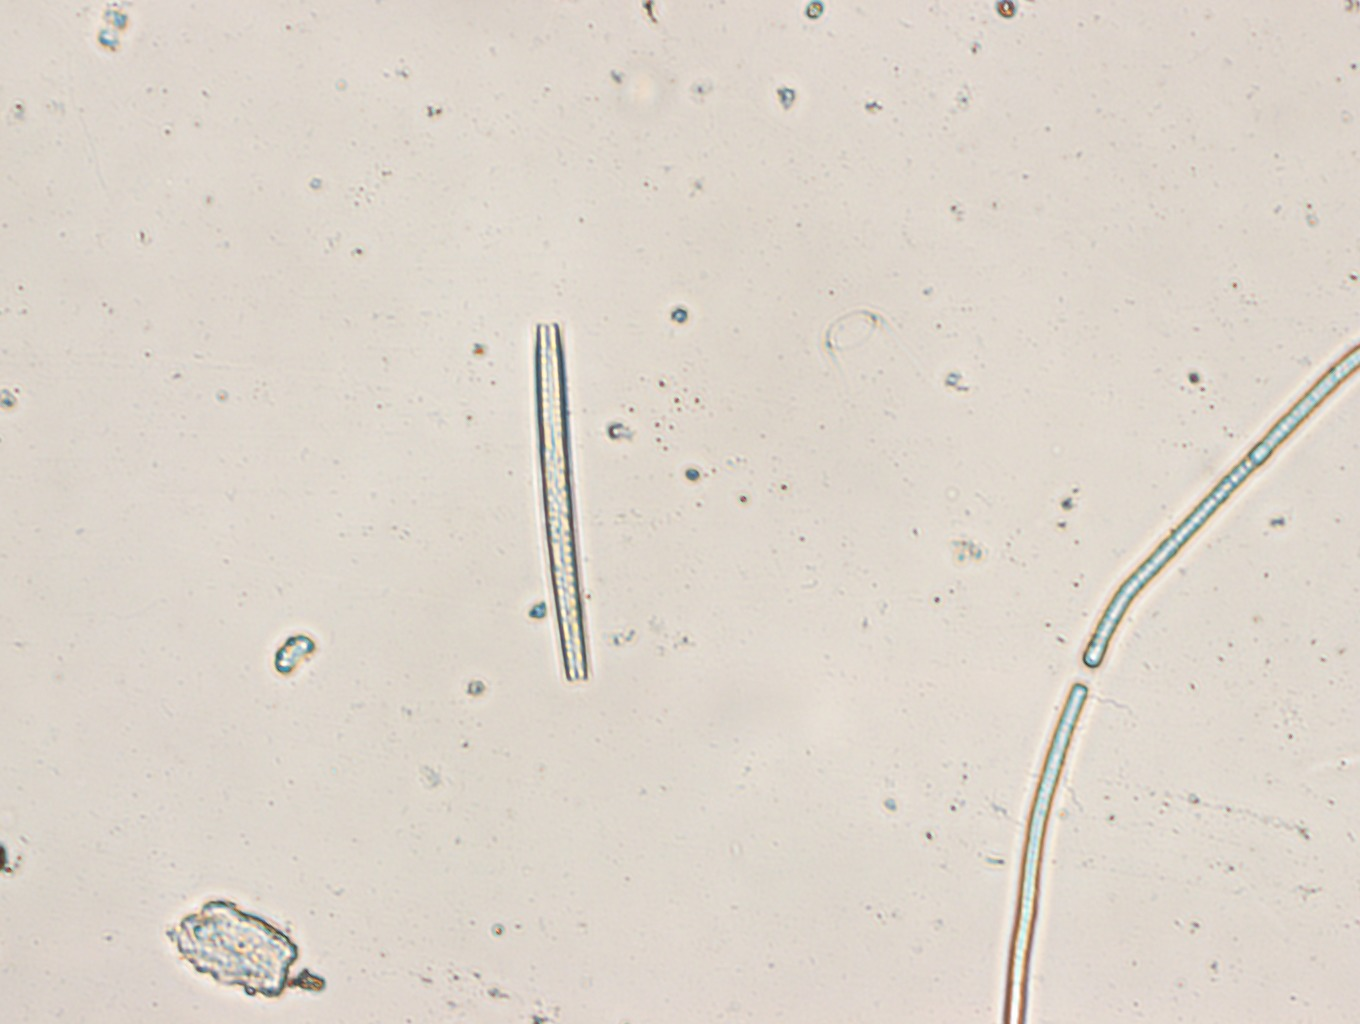thalassionema nitzschioides: (533, 323, 590, 681)
